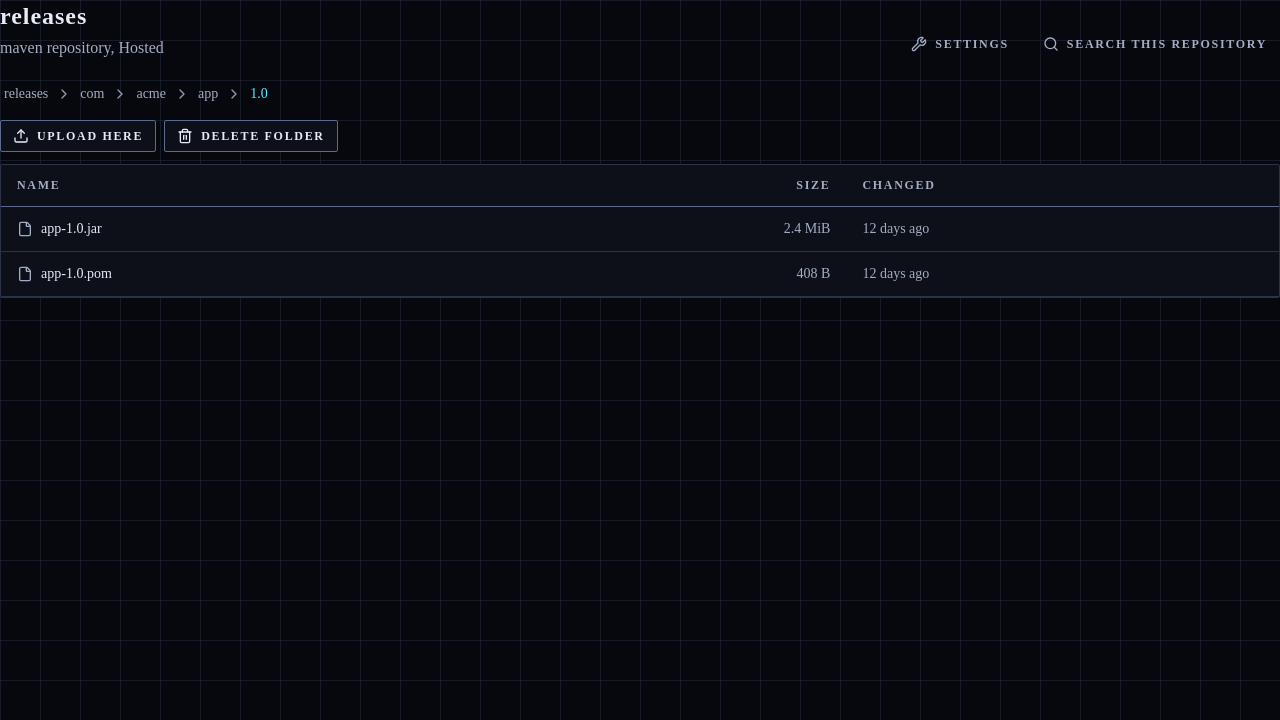
Test: deleting › a folder asks for its name, deletes in pieces, and says how many went
Click the button "Delete folder": [251, 136] box x1=164 y1=120 x2=338 y2=152
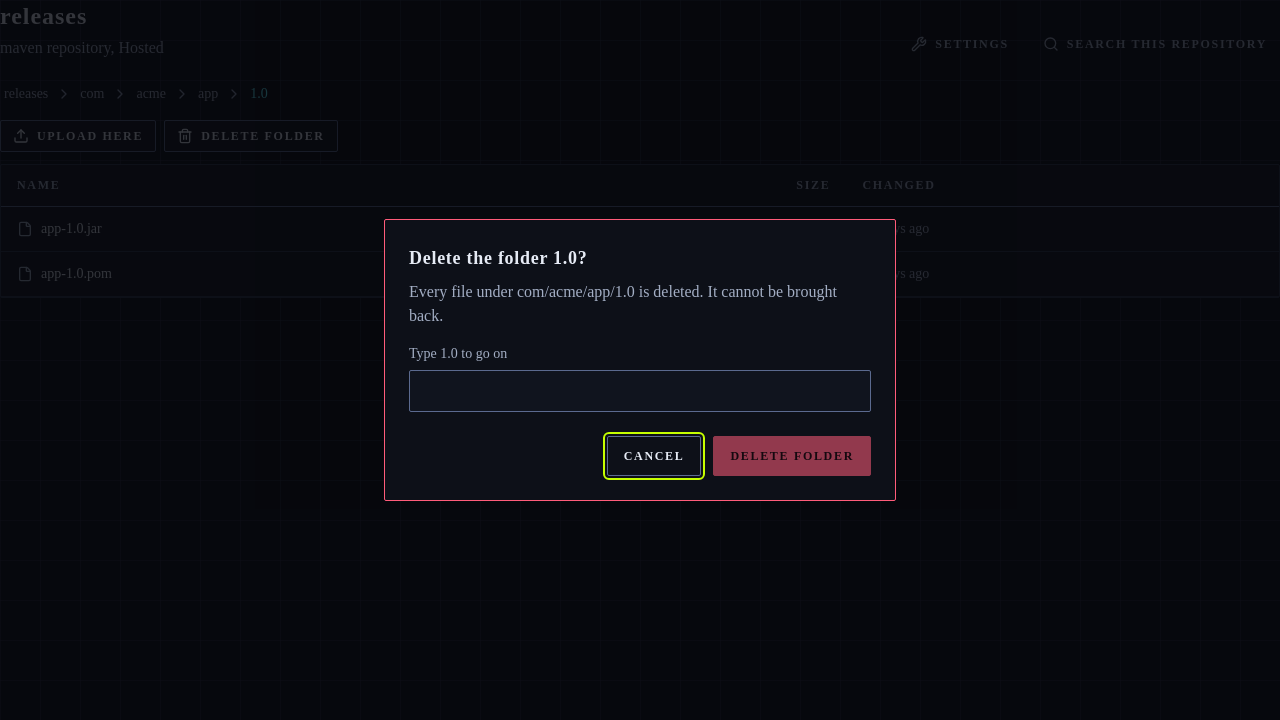
Check: the button "Delete folder" is disabled, box x1=714 y1=436 x2=871 y2=476
In the field labelled "Type 1.0 to go on": [640, 391] box x1=409 y1=370 x2=871 y2=412, type "1.0"
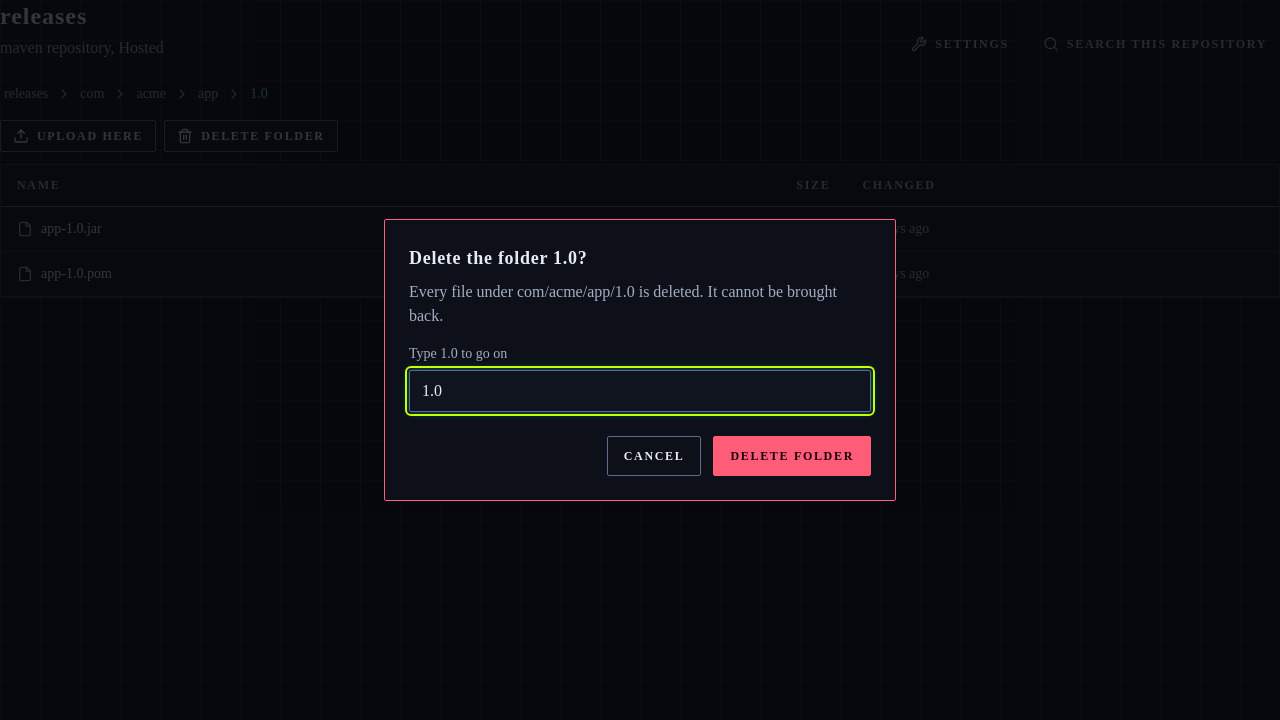
Click the button "Delete folder": [792, 456] box x1=714 y1=436 x2=871 y2=476
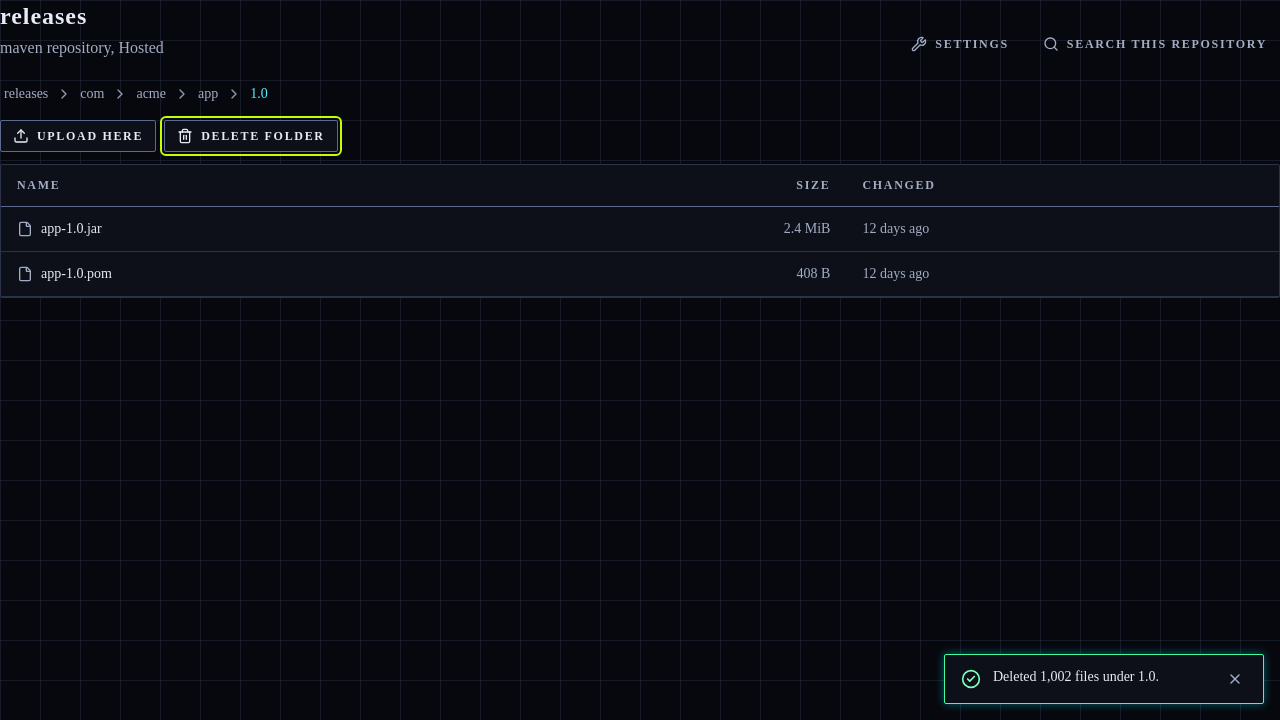
Check: the element named "Notifications" reads "Deleted 1,002 files under 1.0.", box x1=993 y1=669 x2=1159 y2=684
